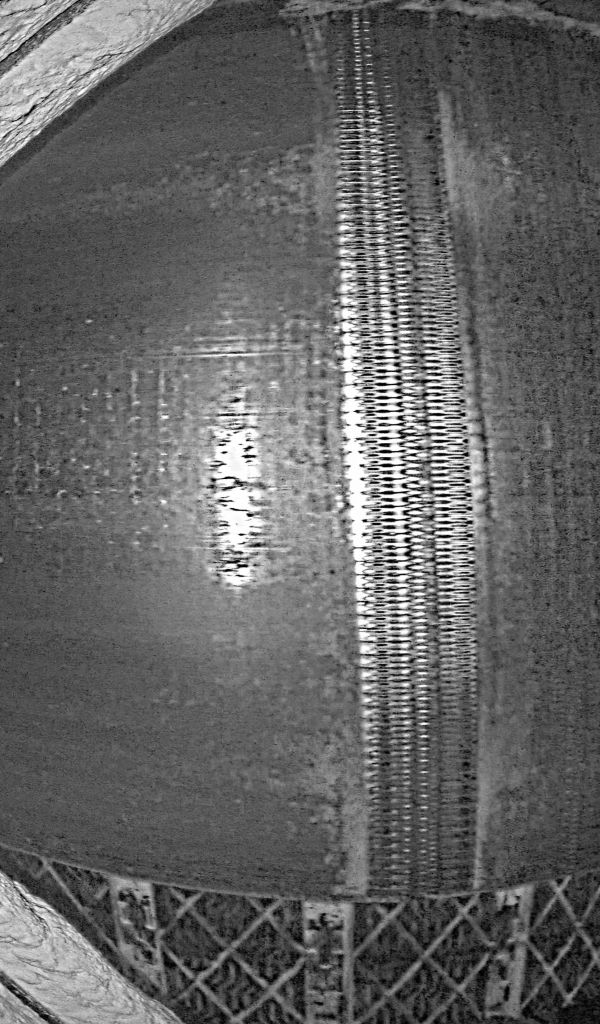splice: (294, 13, 494, 900)
